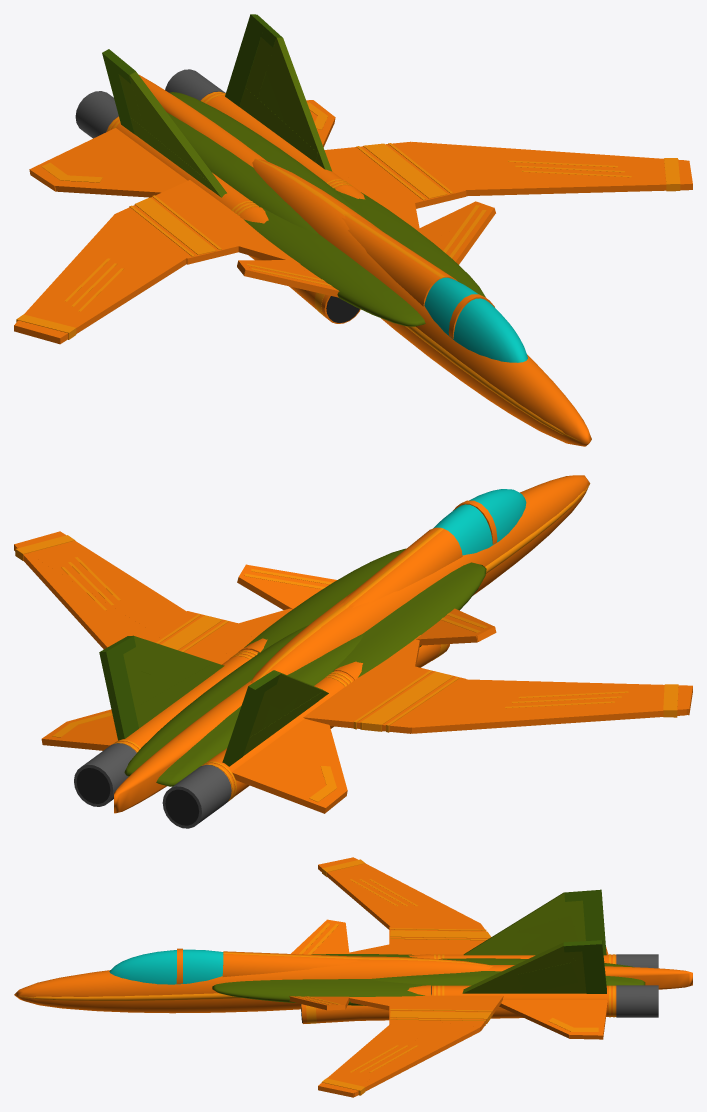
The model's file is BerkutModelObjects.fbx.
The picture shows the model from 3 angles, top to bottom: view 1: azimuth 30°, elevation 25°; view 2: azimuth 150°, elevation 25°; view 3: azimuth 270°, elevation 25°; orthographic projection. The views are drawn at different scales.
Parts seen in each view (by area): view 1: Sphere__2_, Capsule__5_, Cube__23_, Cube__2_, Capsule__4_, Sphere__1_, Cube__3_, Cube__24_, Cylinder__20_, Cube__14_, Cube__13_, Cube__4_ (+28 smaller); view 2: Sphere__2_, Capsule__5_, Cube__3_, Capsule__4_, Cube__23_, Cube__2_, Capsule__3_, Cube__24_, Cylinder__20_, Sphere__1_, Cube__11_, Cube__4_ (+28 smaller); view 3: Sphere__2_, Capsule__5_, Cube__23_, Cube__2_, Sphere__1_, Cube__3_, Cube__24_, Cylinder__20_, Cube__13_, Capsule__4_, Cube__14_, Capsule__3_ (+26 smaller).
Part boxes in pixels (bbox=[...]): Sphere__2_: bbox=[252, 159, 591, 446]; Capsule__5_: bbox=[244, 188, 485, 326]; Cube__23_: bbox=[414, 160, 692, 196]; Cube__2_: bbox=[14, 232, 202, 344]; Capsule__4_: bbox=[167, 92, 362, 233]; Sphere__1_: bbox=[424, 277, 527, 362]; Cube__3_: bbox=[15, 214, 161, 324]; Cube__24_: bbox=[411, 142, 686, 166]; Cylinder__20_: bbox=[341, 214, 457, 306]; Cube__14_: bbox=[266, 37, 332, 171]; Cube__13_: bbox=[130, 72, 226, 197]; Cube__4_: bbox=[115, 180, 225, 232]; Sphere__2_: bbox=[250, 475, 589, 683]; Capsule__5_: bbox=[244, 548, 486, 677]; Cube__3_: bbox=[405, 687, 686, 733]; Capsule__4_: bbox=[124, 625, 363, 786]; Cube__23_: bbox=[14, 531, 213, 640]; Cube__2_: bbox=[420, 679, 692, 715]; Capsule__3_: bbox=[114, 680, 251, 813]; Cube__24_: bbox=[15, 545, 147, 649]; Cylinder__20_: bbox=[340, 527, 462, 608]; Sphere__1_: bbox=[433, 489, 526, 555]; Cube__11_: bbox=[231, 755, 345, 813]; Cube__4_: bbox=[303, 691, 424, 733]; Sphere__2_: bbox=[14, 956, 492, 1013]; Capsule__5_: bbox=[212, 954, 434, 1005]; Cube__23_: bbox=[318, 1010, 440, 1097]; Cube__2_: bbox=[318, 857, 439, 939]; Sphere__1_: bbox=[109, 949, 223, 984]; Cube__3_: bbox=[331, 858, 480, 931]; Cube__24_: bbox=[354, 1025, 480, 1096]; Cylinder__20_: bbox=[222, 951, 360, 976]; Cube__13_: bbox=[463, 892, 575, 955]; Capsule__4_: bbox=[369, 958, 645, 985]; Cube__14_: bbox=[462, 942, 575, 993]; Capsule__3_: bbox=[483, 965, 692, 989].
Size of the model in its own units: 701 by 133 by 852.
